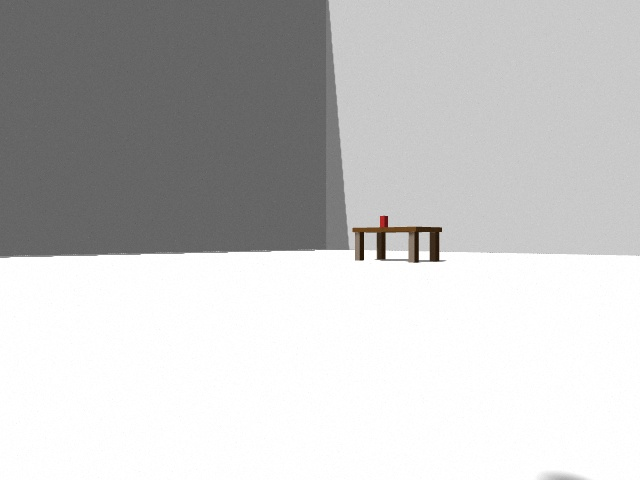red_cube: (380, 216, 385, 228)
